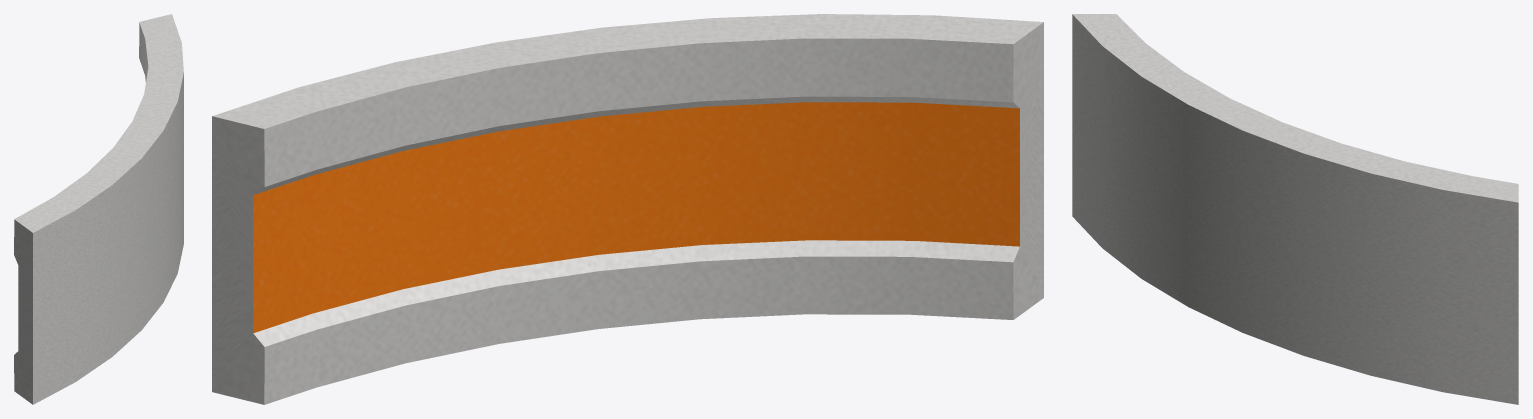
File: Wall_1_Half_Rounded_LOD0.fbx
3 views of the same model, side by side, from view 1: azimuth 30°, elevation 25°; view 2: azimuth 150°, elevation 25°; view 3: azimuth 270°, elevation 25° (orthographic). The views are drawn at different scales.
Visible parts, largest first — view 1: Wall_1_Half_Rounded_LOD0; view 2: Wall_1_Half_Rounded_LOD0; view 3: Wall_1_Half_Rounded_LOD0.
Boxes of the visible parts, left/top/right/bottom form: Wall_1_Half_Rounded_LOD0: left=14, top=14, right=183, bottom=404; Wall_1_Half_Rounded_LOD0: left=212, top=14, right=1043, bottom=404; Wall_1_Half_Rounded_LOD0: left=1072, top=14, right=1518, bottom=404.
Size of the model in its own units: 200 by 100 by 200.
